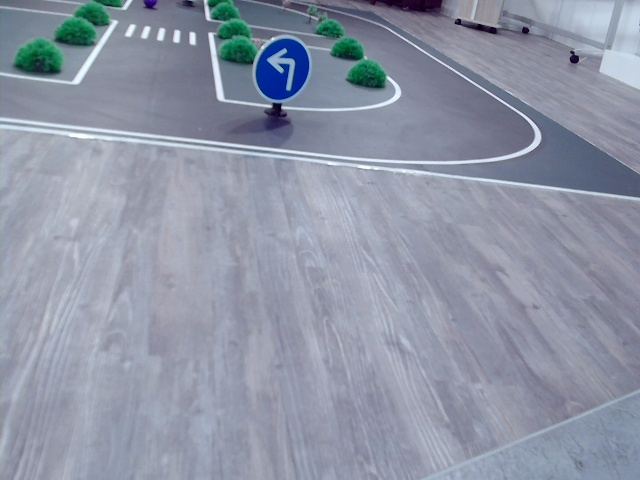turn_left: (266, 44, 296, 88)
